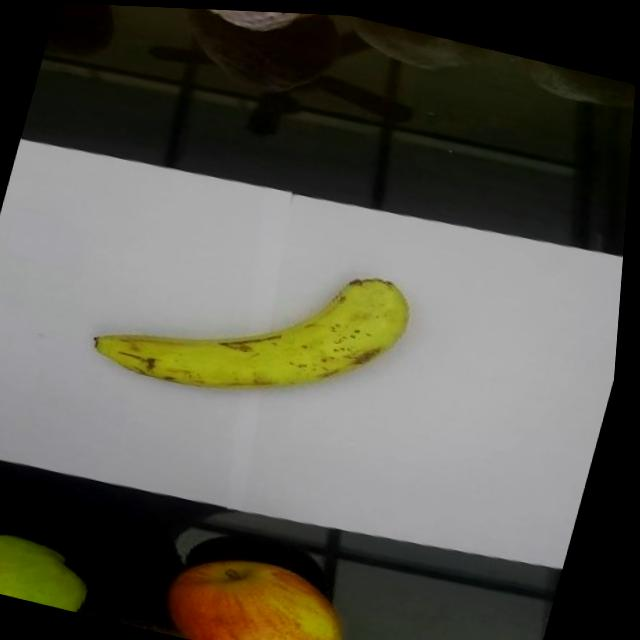Apple: (169, 532, 367, 640)
Banana: (87, 205, 428, 435)
